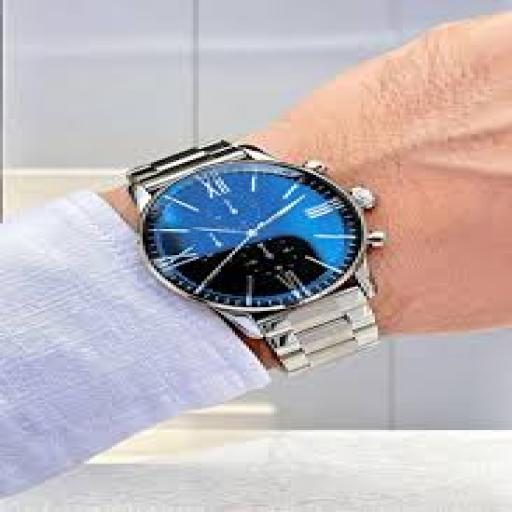KolSaati: (77, 120, 423, 378)
